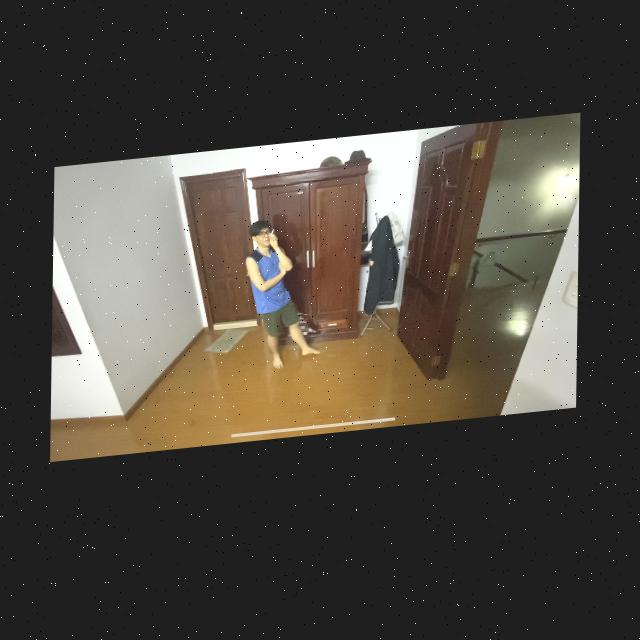cigarette: (271, 234, 275, 241)
